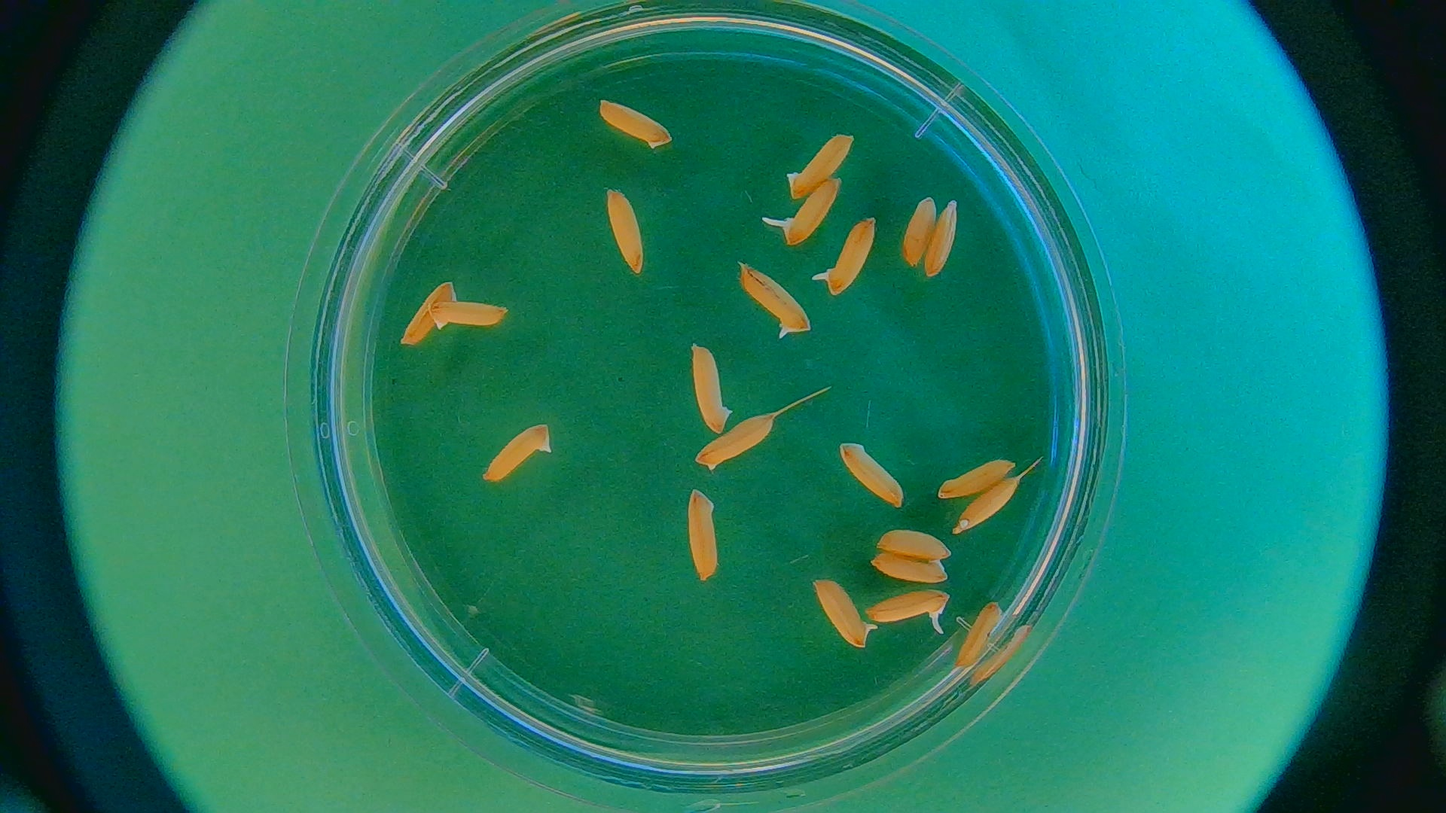no: (692, 413, 789, 474), (834, 435, 905, 510), (393, 277, 459, 348), (478, 420, 554, 480), (786, 132, 853, 199), (593, 95, 676, 148), (952, 476, 1024, 536), (685, 343, 731, 432), (938, 449, 1016, 501), (953, 598, 1005, 672), (603, 184, 646, 272), (685, 488, 725, 580), (897, 191, 937, 269), (874, 524, 953, 562), (921, 203, 959, 280), (426, 300, 506, 332), (870, 553, 948, 585)
yes: (807, 575, 898, 653), (735, 257, 814, 340), (813, 217, 877, 296), (770, 175, 839, 245), (862, 589, 950, 632)
